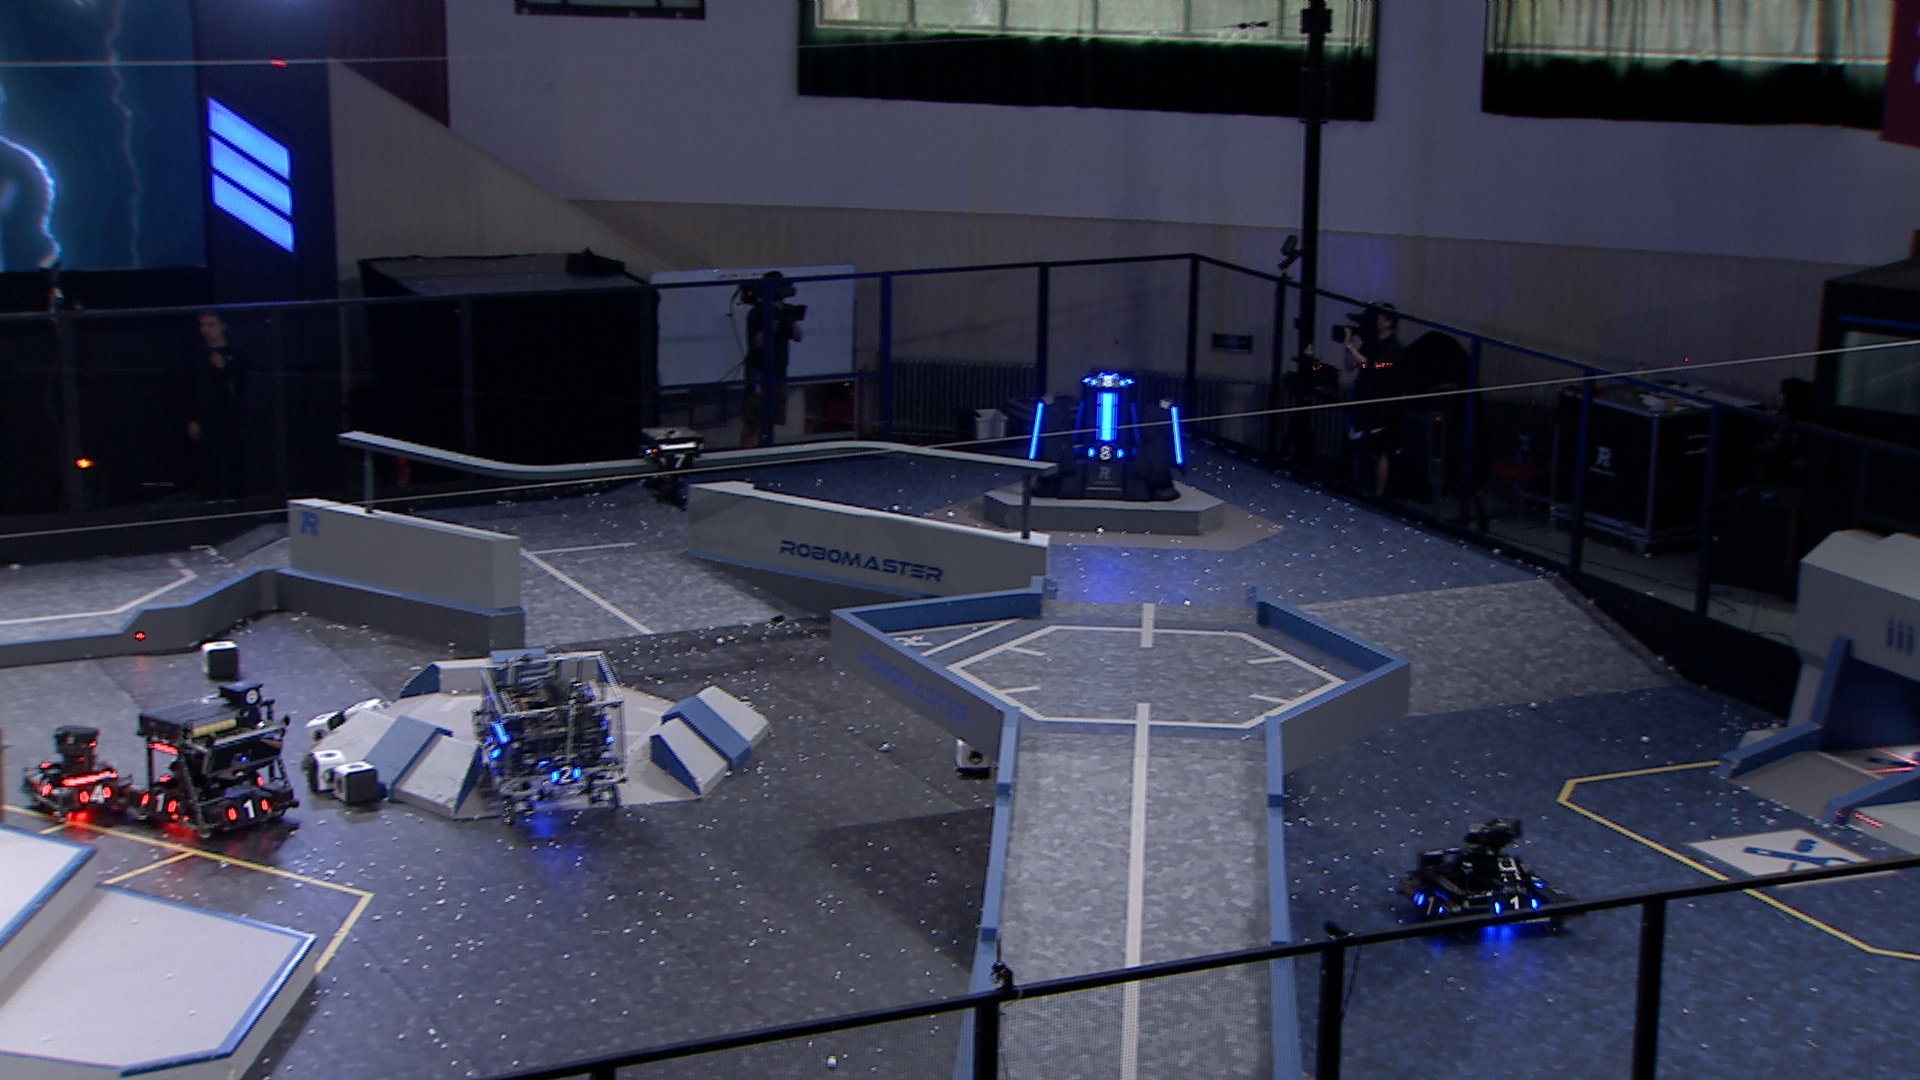armor: (1097, 392, 1120, 444), (225, 796, 272, 822), (1026, 401, 1044, 463), (1168, 404, 1185, 469), (1489, 894, 1539, 916), (1410, 891, 1447, 918), (138, 793, 179, 815), (1069, 400, 1088, 447), (78, 785, 115, 808), (1126, 400, 1145, 446), (1087, 443, 1127, 463), (549, 764, 582, 787), (1091, 375, 1127, 392), (661, 454, 694, 471), (481, 736, 501, 761), (32, 777, 53, 799)
base: (1022, 371, 1189, 501)
car: (471, 651, 629, 825), (1390, 816, 1580, 949), (131, 694, 302, 840), (16, 723, 144, 827)
watcher: (640, 425, 704, 514)
